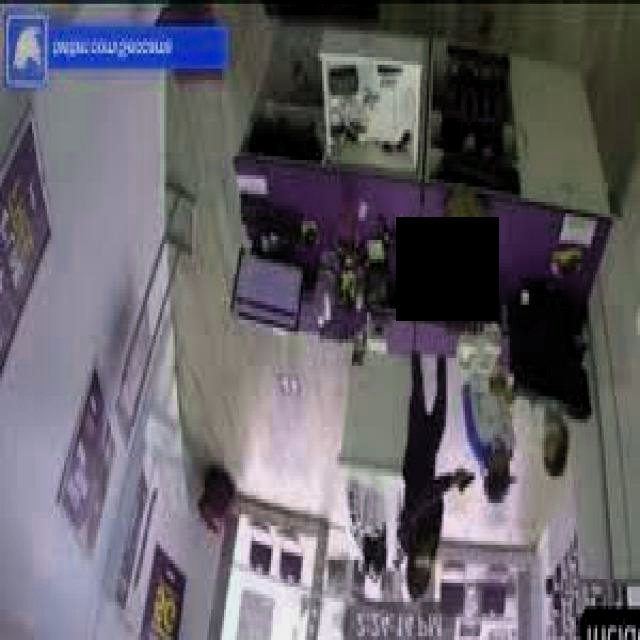gun: (450, 465, 475, 502)
